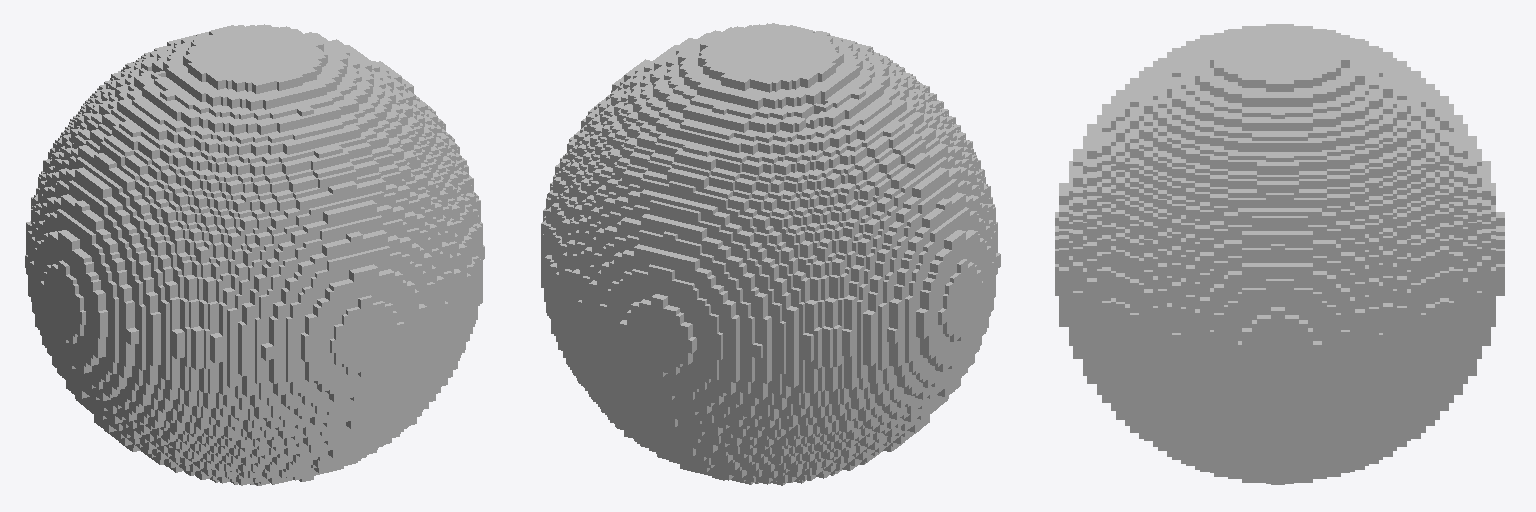
File: Lechuga.obj
3 views of the same model, side by side, from view 1: azimuth 30°, elevation 25°; view 2: azimuth 150°, elevation 25°; view 3: azimuth 270°, elevation 25° (orthographic).
Parts seen in each view (by area): view 1: object 1; view 2: object 1; view 3: object 1.
Boxes of the visible parts, <box> form: object 1: <box>25,24,484,485</box>; object 1: <box>541,23,1000,485</box>; object 1: <box>1055,24,1504,484</box>.
Size of the model in its own units: 9.6 by 9.5 by 9.6.